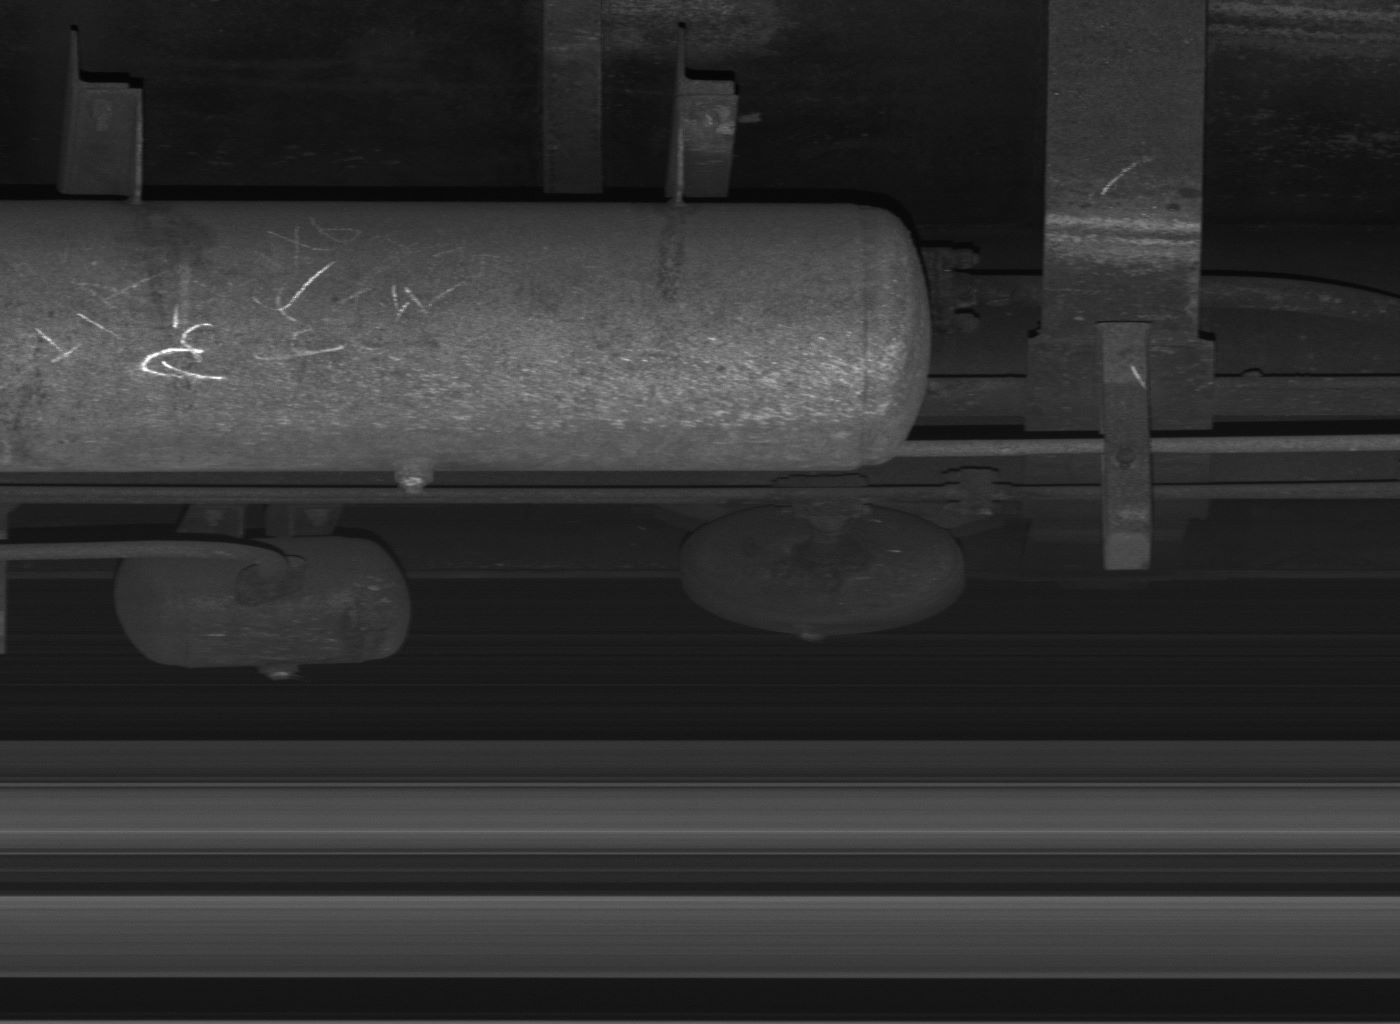normal: (1098, 321, 1153, 571)
